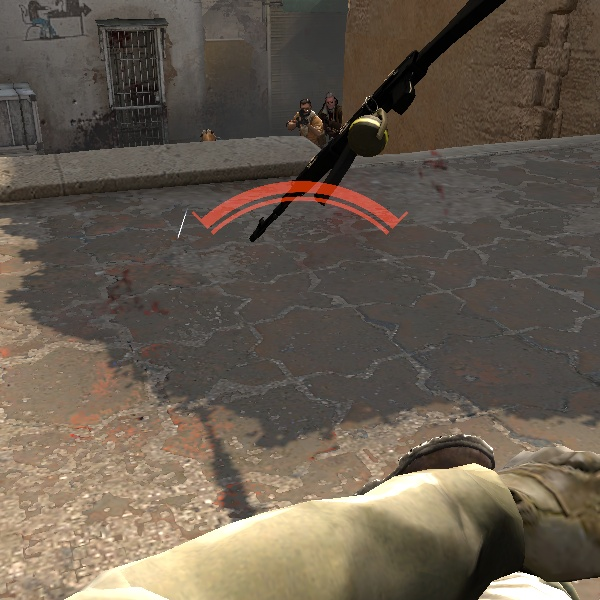t_body: (285, 93, 326, 145), (317, 92, 348, 138)
t_head: (321, 90, 344, 116), (294, 94, 317, 119)
